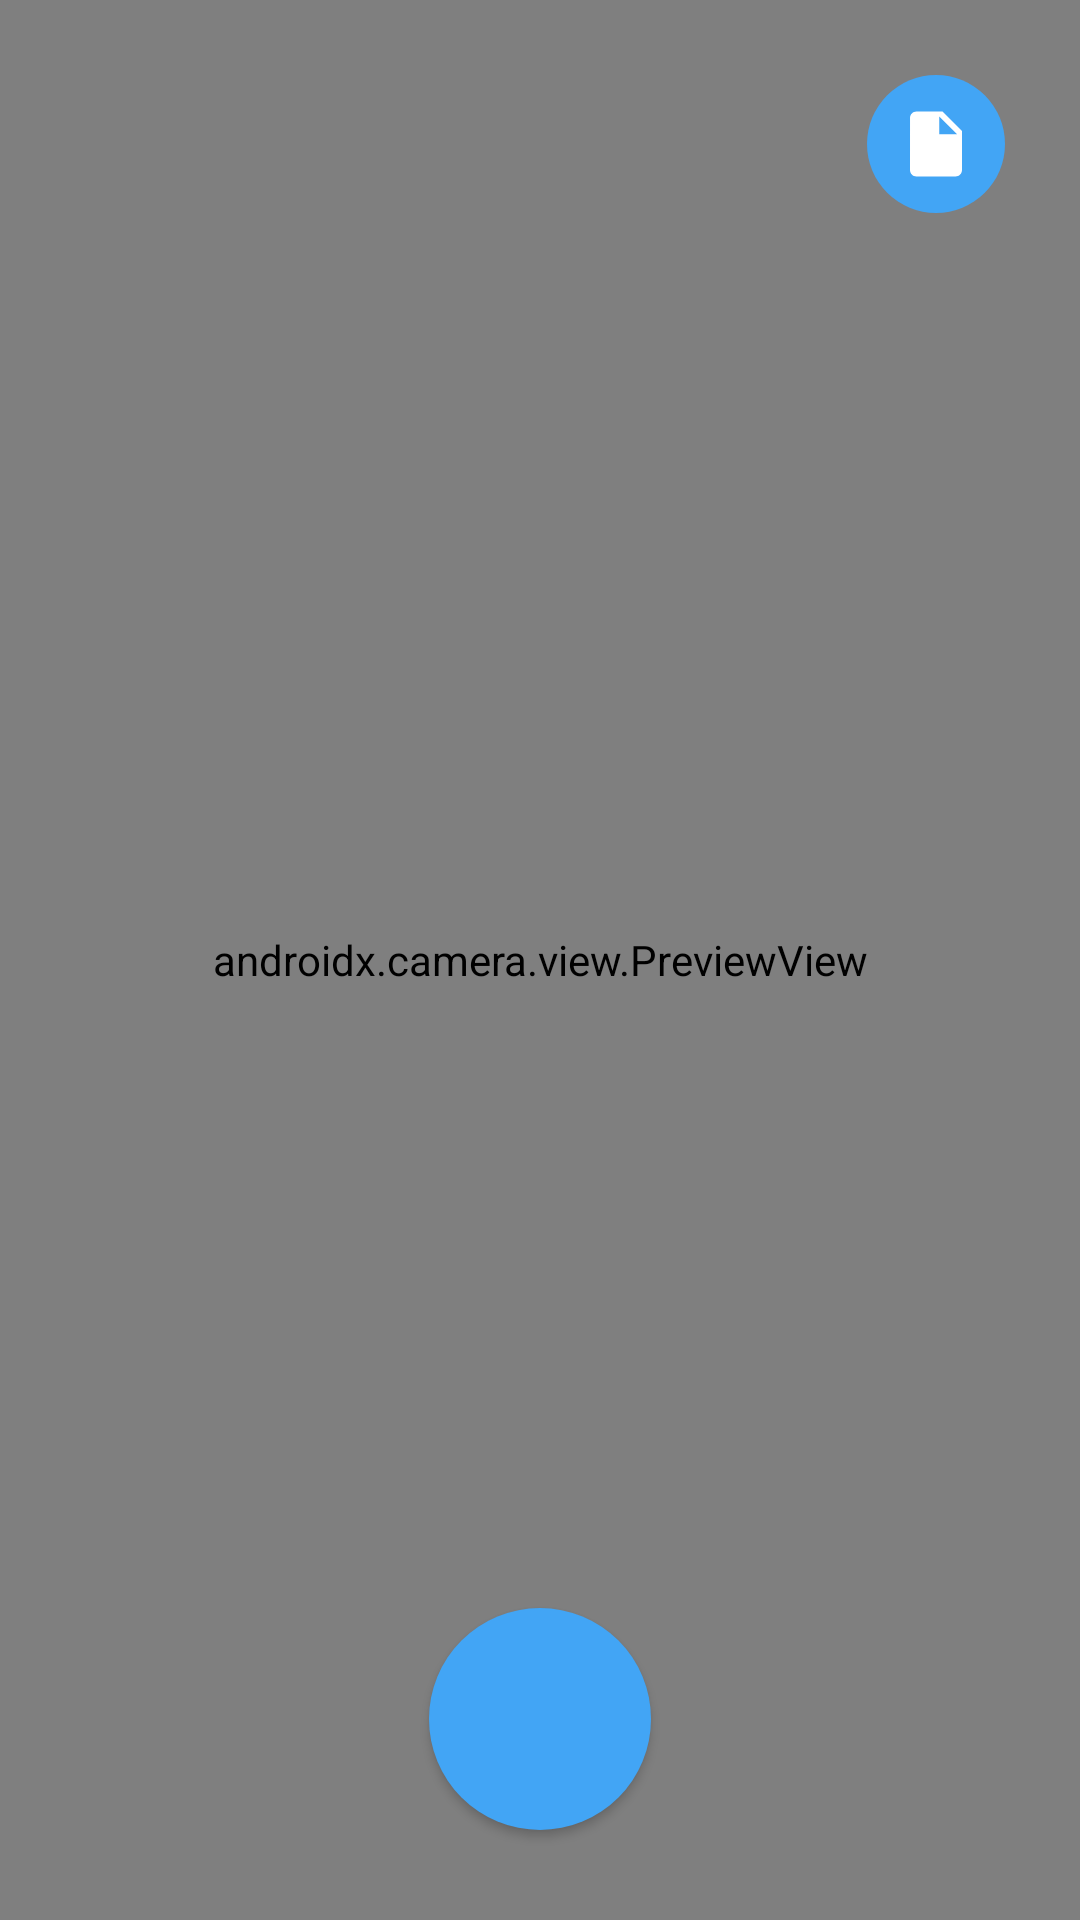

Where to tap for icons on this 1080 x 1920 app screen, as [x,y]:
insert drive file: [936,144]
